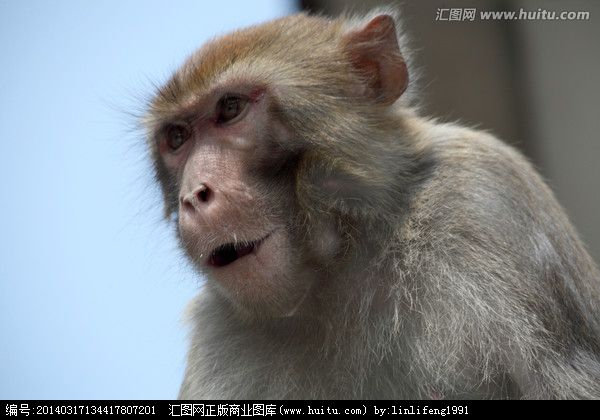monkey: (115, 16, 567, 391)
